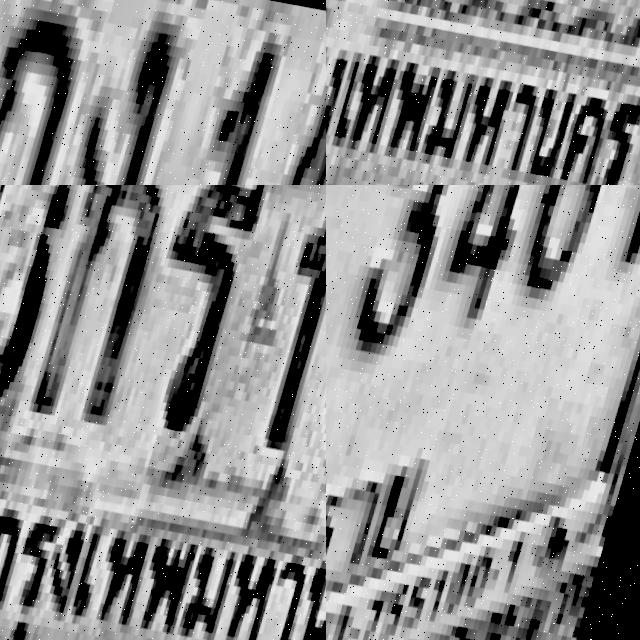license-plate: (0, 185, 326, 640), (326, 185, 640, 640), (0, 0, 326, 185), (326, 0, 640, 185)
